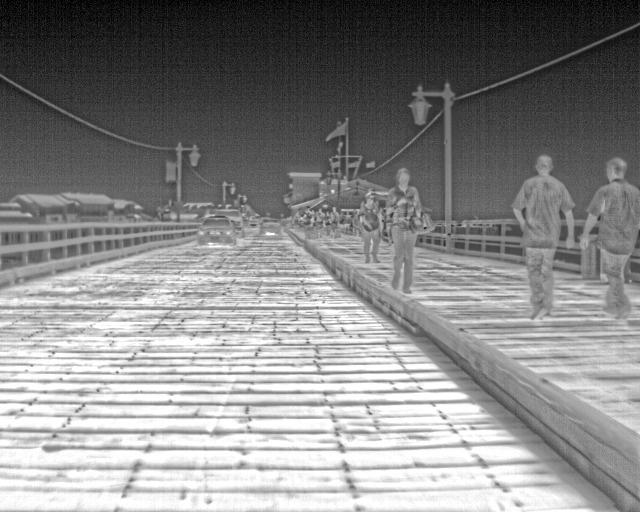bicycle: (197, 218, 235, 246), (214, 210, 245, 238), (259, 217, 282, 234)
empty: (508, 155, 573, 318), (579, 156, 639, 316), (382, 166, 421, 289), (356, 191, 385, 263), (299, 205, 315, 228), (313, 205, 327, 227), (328, 205, 342, 227)
